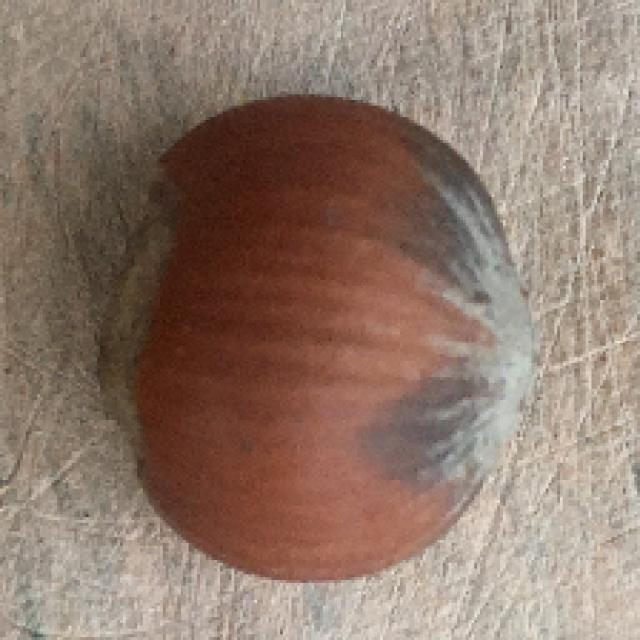damagedHazelnut: (100, 93, 546, 596)
